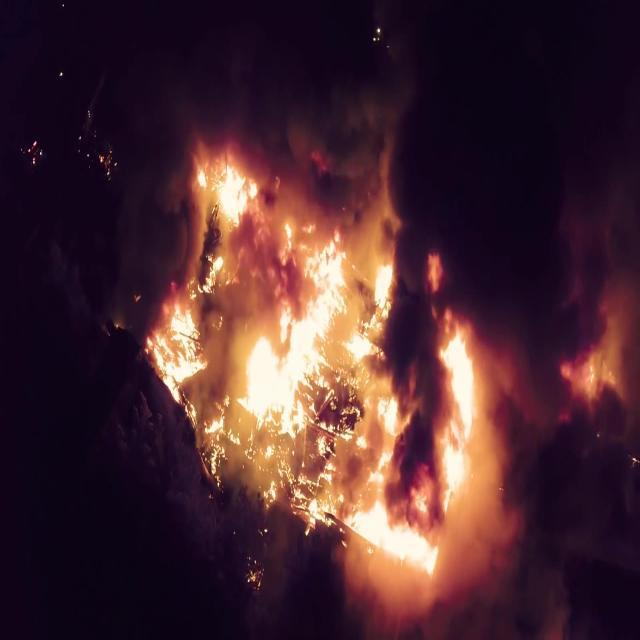Fire: (118, 147, 618, 598)
Smoke: (65, 0, 624, 639)
